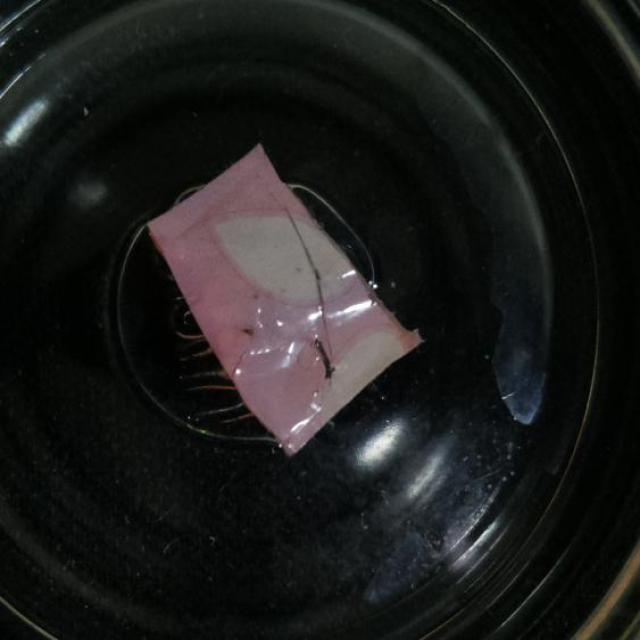fiber: (142, 140, 424, 458)
